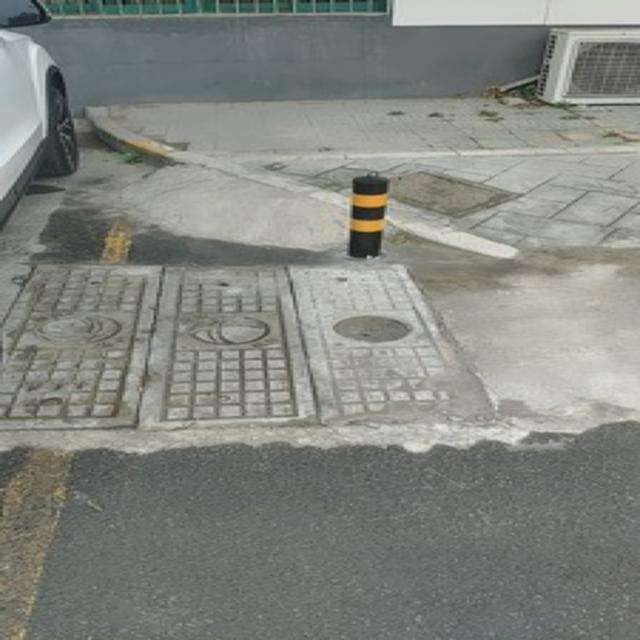car: (3, 1, 77, 222)
warning_column: (338, 168, 387, 258)
